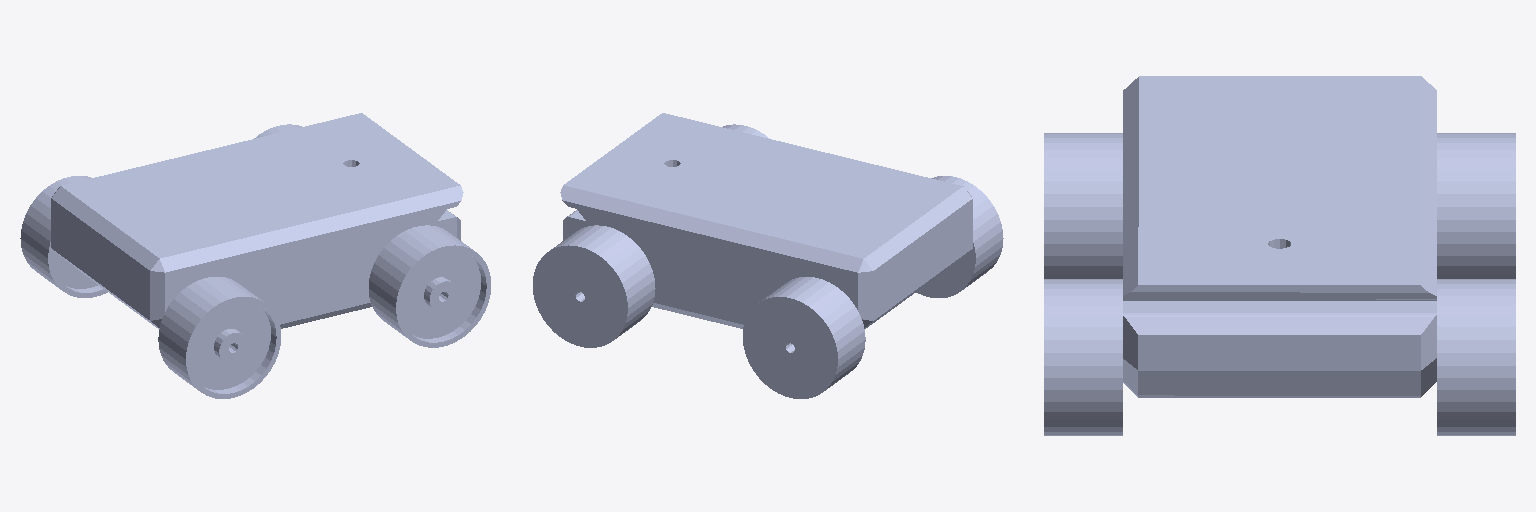
The robot description file, URDF, robot "robot_base":
<?xml version="1.0"?>

<robot name="robot_base">
  <link name="base_link">
    <inertial>
      <origin
        xyz="0.0030946 4.78250032638821E-11 0.053305"
        rpy="0 0 0" />
      <mass
        value="47.873" />
      <inertia
        ixx="0.774276574699151"
        ixy="-1.03781944357671E-10"
        ixz="0.00763014265820928"
        iyy="1.64933255189991"
        iyz="1.09578155845563E-12"
        izz="2.1239326987473" />
    </inertial>
    <visual>
      <origin
        xyz="0 0 0"
        rpy="1.5707963267949 0 3.14" />
      <geometry>
        <mesh filename="package://robot_description/meshes/robot_base.stl" />
      </geometry>
      <material
        name="">
        <color
          rgba="0.79216 0.81961 0.93333 1" />
      </material>
    </visual>
    <collision>
      <origin
        xyz="0 0 0"
        rpy="1.5707963267949 0 3.14" />
      <geometry>
        <mesh filename="package://robot_description/meshes/robot_base.stl" />
      </geometry>
    </collision>
  </link>

<link name="front_left_wheel">
    <inertial>
      <origin
        xyz="-4.1867E-18 0.0068085 -1.65658661799998E-18"
        rpy="0 0 0" />
      <mass
        value="2.6578" />
      <inertia
        ixx="0.00856502765719703"
        ixy="1.5074118157338E-19"
        ixz="-4.78150098725052E-19"
        iyy="0.013670640432096"
        iyz="-2.68136447099727E-19"
        izz="0.00856502765719703" />
    </inertial>
    <visual>
      <origin
        xyz="0 0 0"
        rpy="1.5707963267949 0 0" />
      <geometry>
        <mesh filename="package://robot_description/meshes/wheel.stl" />
      </geometry>
      <material
        name="">
        <color
          rgba="0.79216 0.81961 0.93333 1" />
      </material>
    </visual>
    <collision>
      <origin
        xyz="0 0 0"
        rpy="1.5707963267949 0 0" />
      <geometry>
        <mesh filename="package://robot_description/meshes/wheel.stl" />
      </geometry>
    </collision>
  </link>

<link name="front_right_wheel">
    <inertial>
      <origin
        xyz="-4.1867E-18 0.0068085 -1.65658661799998E-18"
        rpy="0 0 0" />
      <mass
        value="2.6578" />
      <inertia
        ixx="0.00856502765719703"
        ixy="1.5074118157338E-19"
        ixz="-4.78150098725052E-19"
        iyy="0.013670640432096"
        iyz="-2.68136447099727E-19"
        izz="0.00856502765719703" />
    </inertial>
    <visual>
      <origin
        xyz="0 0 0"
        rpy="1.5707963267949 0 0" />
      <geometry>
        <mesh filename="package://robot_description/meshes/wheel.stl" />
      </geometry>
      <material
        name="">
        <color
          rgba="0.79216 0.81961 0.93333 1" />
      </material>
    </visual>
    <collision>
      <origin
        xyz="0 0 0"
        rpy="1.5707963267949 0 0" />
      <geometry>
        <mesh filename="package://robot_description/meshes/wheel.stl" />
      </geometry>
    </collision>
  </link>

<link name="rear_left_wheel">
    <inertial>
      <origin
        xyz="-4.1867E-18 0.0068085 -1.65658661799998E-18"
        rpy="0 0 0" />
      <mass
        value="2.6578" />
      <inertia
        ixx="0.00856502765719703"
        ixy="1.5074118157338E-19"
        ixz="-4.78150098725052E-19"
        iyy="0.013670640432096"
        iyz="-2.68136447099727E-19"
        izz="0.00856502765719703" />
    </inertial>
    <visual>
      <origin
        xyz="0 0 0"
        rpy="1.5707963267949 0 0" />
      <geometry>
        <mesh filename="package://robot_description/meshes/wheel.stl" />
      </geometry>
      <material
        name="">
        <color
          rgba="0.79216 0.81961 0.93333 1" />
      </material>
    </visual>
    <collision>
      <origin
        xyz="0 0 0"
        rpy="1.5707963267949 0 0" />
      <geometry>
        <mesh filename="package://robot_description/meshes/wheel.stl" />
      </geometry>
    </collision>
  </link>

<link name="rear_right_wheel">
    <inertial>
      <origin
        xyz="-4.1867E-18 0.0068085 -1.65658661799998E-18"
        rpy="0 0 0" />
      <mass
        value="2.6578" />
      <inertia
        ixx="0.00856502765719703"
        ixy="1.5074118157338E-19"
        ixz="-4.78150098725052E-19"
        iyy="0.013670640432096"
        iyz="-2.68136447099727E-19"
        izz="0.00856502765719703" />
    </inertial>
    <visual>
      <origin
        xyz="0 0 0"
        rpy="1.5707963267949 0 0" />
      <geometry>
        <mesh filename="package://robot_description/meshes/wheel.stl" />
      </geometry>
      <material
        name="">
        <color
          rgba="0.79216 0.81961 0.93333 1" />
      </material>
    </visual>
    <collision>
      <origin
        xyz="0 0 0"
        rpy="1.5707963267949 0 0" />
      <geometry>
        <mesh filename="package://robot_description/meshes/wheel.stl" />
      </geometry>
    </collision>
  </link>


<joint name="front_left_wheel_joint" type="continuous">
    <axis xyz="0 1 0"/>
    <parent link ="base_link"/>
    <child link ="front_left_wheel"/>
    <origin rpy ="0 0 0" xyz= "0.220 0.250 0"/>
  </joint>


<joint name="front_right_wheel_joint" type="continuous">
    <axis xyz="0 1 0"/>
    <parent link ="base_link"/>
    <child link ="front_right_wheel"/>
    <origin rpy ="0 0 0" xyz= "0.220 -0.250 0"/>
  </joint>

<joint name="rear_left_wheel_joint" type="continuous">
    <axis xyz="0 1 0"/>
    <parent link ="base_link"/>
    <child link ="rear_left_wheel"/>
    <origin rpy ="0 0 0" xyz= "-0.220 0.250 0"/>
  </joint>

<joint name="rear_right_wheel_joint" type="continuous">
    <axis xyz="0 1 0"/>
    <parent link ="base_link"/>
    <child link ="rear_right_wheel"/>
    <origin rpy ="0 0 0" xyz= "-0.220 -0.250 0"/>
  </joint>
<!--######################################################################-->
<gazebo>
    <plugin name="gazebo_ros_control" filename="libgazebo_ros_control.so">
      <robotNamespace>/</robotNamespace>
      <controlPeriod>0.001</controlPeriod>
      <legacyModeNS>false</legacyModeNS>
    </plugin>
  </gazebo>
<!--######################################################################-->
<gazebo>
      <plugin name="diff_drive_controller" filename="libgazebo_ros_diff_drive.so">
        <legacyMode>false</legacyMode>
        <alwaysOn>true</alwaysOn>
        <updateRate>1000.0</updateRate>
        <leftJoint>front_left_wheel_joint, rear_left_wheel_joint</leftJoint>
        <rightJoint>front_right_wheel_joint, rear_right_wheel_joint</rightJoint>
        <wheelSeparation>0.5</wheelSeparation>
        <wheelDiameter>0.2</wheelDiameter>
        <wheelTorque>10</wheelTorque>
        <publishTf>1</publishTf>
        <odometryFrame>map</odometryFrame>
        <commandTopic>cmd_vel</commandTopic>
        <odometryTopic>odom</odometryTopic>
        <robotBaseFrame>base_link</robotBaseFrame>
        <wheelAcceleration>2.8</wheelAcceleration>
        <publishWheelJointState>true</publishWheelJointState>
        <publishWheelTF>false</publishWheelTF>
        <odometrySource>world</odometrySource>
        <rosDebugLevel>Debug</rosDebugLevel>
      </plugin>
</gazebo>
<!--######################################################################-->
<gazebo reference="front_left_wheel">
 <mu1 value="1.0"/>
 <mu2 value="1.0"/>
 <kp value="10000000.0" />
 <kd value="1.0" />
 <fdir1 value="1 0 0"/>
</gazebo>

<gazebo reference="front_right_wheel">
 <mu1 value="1.0"/>
 <mu2 value="1.0"/>
 <kp value="10000000.0" />
 <kd value="1.0" />
 <fdir1 value="1 0 0"/>
</gazebo>

<gazebo reference="rear_left_wheel">
 <mu1 value="1.0"/>
 <mu2 value="1.0"/>
 <kp value="10000000.0" />
 <kd value="1.0" />
 <fdir1 value="1 0 0"/>
</gazebo>

<gazebo reference="rear_left_wheel">
 <mu1 value="1.0"/>
 <mu2 value="1.0"/>
 <kp value="10000000.0" />
 <kd value="1.0" />
 <fdir1 value="1 0 0"/>
</gazebo>
<!--######################################################################-->
<transmission name="front_left_wheel_trans" type="SimpleTransmission">
  <type>transmission_interface/SimpleTransmission</type>
  <actuator name="front_left_wheel_motor">
   <hardwareInterface>hardware_interface/VelocityJointInterface</hardwareInterface>
   <mechanicalReduction>1</mechanicalReduction>
  </actuator>
  <joint name="front_left_wheel_joint">
   <hardwareInterface>hardware_interface/VelocityJointInterface</hardwareInterface>
  </joint>
</transmission>

<transmission name="front_right_wheel_trans" type="SimpleTransmission">
  <type>transmission_interface/SimpleTransmission</type>
  <actuator name="front_right_wheel_motor">
   <hardwareInterface>hardware_interface/VelocityJointInterface</hardwareInterface>
   <mechanicalReduction>1</mechanicalReduction>
  </actuator>
  <joint name="front_right_wheel_joint">
   <hardwareInterface>hardware_interface/VelocityJointInterface</hardwareInterface>
  </joint>
</transmission>

<transmission name="rear_left_wheel_trans" type="SimpleTransmission">
  <type>transmission_interface/SimpleTransmission</type>
  <actuator name="rear_left_wheel_motor">
   <hardwareInterface>hardware_interface/VelocityJointInterface</hardwareInterface>
   <mechanicalReduction>1</mechanicalReduction>
  </actuator>
  <joint name="rear_left_wheel_joint">
   <hardwareInterface>hardware_interface/VelocityJointInterface</hardwareInterface>
  </joint>
</transmission>

<transmission name="rear_right_wheel_trans" type="SimpleTransmission">
  <type>transmission_interface/SimpleTransmission</type>
  <actuator name="rear_right_wheel_motor">
   <hardwareInterface>hardware_interface/VelocityJointInterface</hardwareInterface>
   <mechanicalReduction>1</mechanicalReduction>
  </actuator>
  <joint name="rear_right_wheel_joint">
   <hardwareInterface>hardware_interface/VelocityJointInterface</hardwareInterface>
  </joint>
</transmission>
<!--######################################################################-->
</robot>

--- Facts derived from the render (not from the file) ---
3 views of the same robot in one strip: view 1: azimuth 30°, elevation 25°; view 2: azimuth 150°, elevation 25°; view 3: azimuth 270°, elevation 25° (orthographic).
Robot: robot_base — 5 links, 4 joints (4 continuous); root link base_link; default pose: all joints at 0.
Links seen in each view (by area): view 1: base_link, rear_right_wheel, front_right_wheel, rear_left_wheel; view 2: base_link, front_left_wheel, rear_left_wheel, rear_right_wheel; view 3: base_link, front_left_wheel, front_right_wheel, rear_left_wheel, rear_right_wheel.
Link boxes in pixels (x1,y1,x2,y2): base_link: [51, 113, 463, 328]; rear_right_wheel: [158, 277, 280, 398]; front_right_wheel: [369, 225, 490, 347]; rear_left_wheel: [20, 176, 107, 297]; base_link: [560, 113, 972, 328]; front_left_wheel: [533, 225, 655, 347]; rear_left_wheel: [743, 277, 865, 398]; rear_right_wheel: [916, 176, 1003, 297]; base_link: [1123, 76, 1436, 397]; front_left_wheel: [1437, 279, 1515, 435]; front_right_wheel: [1044, 279, 1122, 435]; rear_left_wheel: [1437, 133, 1515, 278]; rear_right_wheel: [1044, 133, 1122, 278].
Size in the robot's own frame: 0.6506 by 0.6 by 0.2497 metres.
Meshes: 2 distinct files referenced, 5 mesh visuals loaded (2 binary STL).